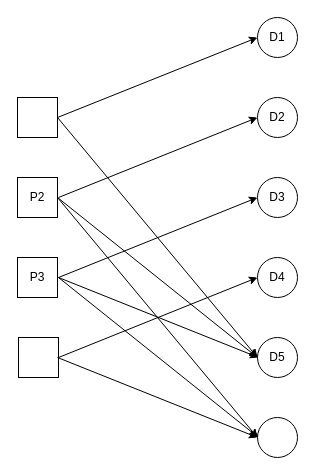
Image size: 315x475. Some labels were removed from this diagram. Each missing label, with the centre of its shape:
D6: (277,437)
P1: (37,117)
P4: (38,357)
